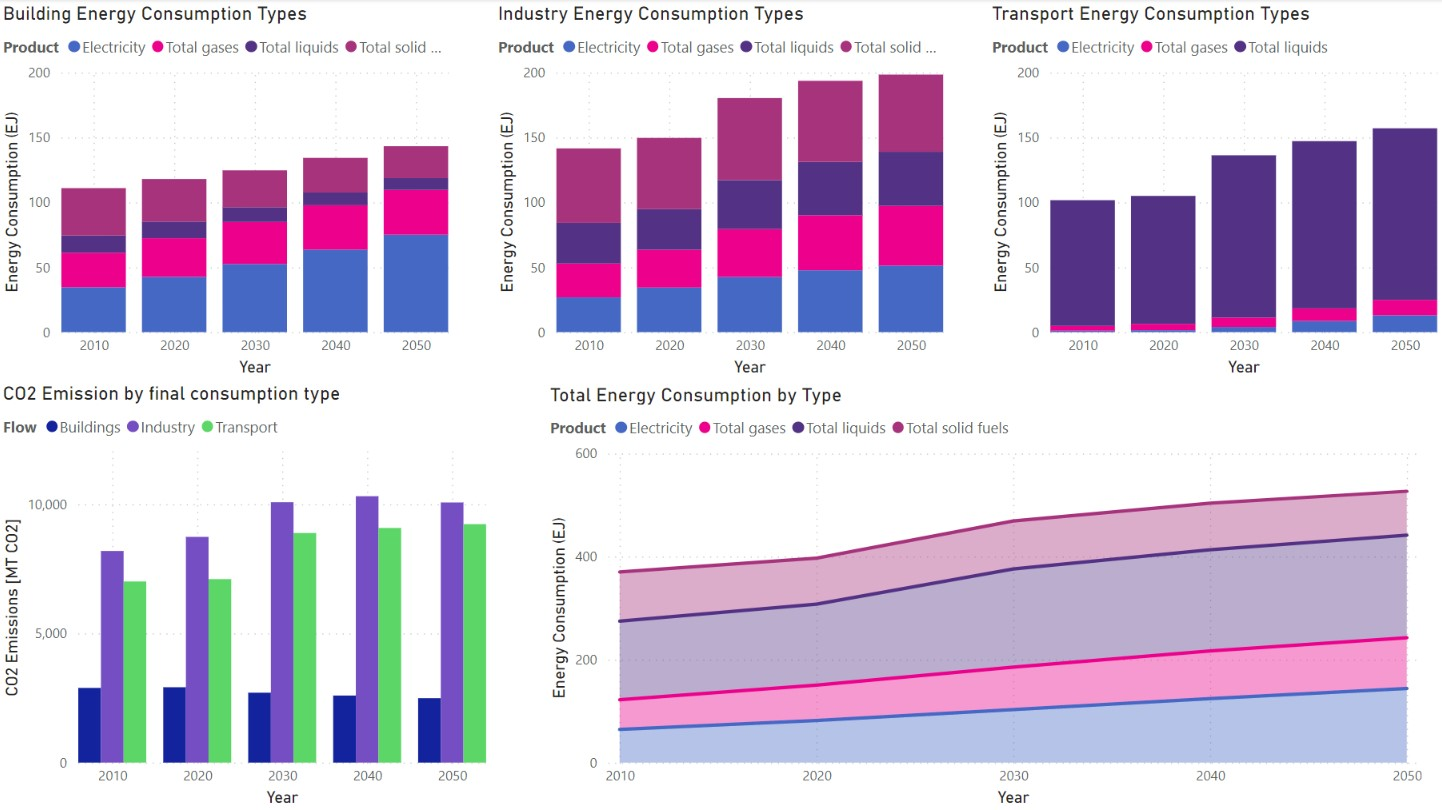

This screenshot's page, from the dashboard's own definition file:
{"tool":"powerbi","page":{"name":"Energy Consumption Data","canvas":[1280,720],"ordinal":1},"visuals":[{"type":"clusteredColumnChart","title":"CO2 Emission by final consumption type","fields":{"Category":["WEO2021_Free_Data_World.Year"],"Y":["Sum(WEO2021_Free_Data_World.Value)"],"Series":["WEO2021_Free_Data_World.Flow"]},"box":[0,338.9,437.8,381.1],"z":0},{"type":"columnChart","title":"Industry Energy Consumption Types","fields":{"Category":["WEO2021_Free_Data_World.Year"],"Y":["Sum(WEO2021_Free_Data_World.Value)"],"Series":["WEO2021_Free_Data_World.Product"]},"box":[438.4,2.7,403.8,336.5],"z":1000},{"type":"columnChart","title":"Building Energy Consumption Types","fields":{"Category":["WEO2021_Free_Data_World.Year"],"Y":["Sum(WEO2021_Free_Data_World.Value)"],"Series":["WEO2021_Free_Data_World.Product"]},"box":[0,2.7,403.8,336.5],"z":1001},{"type":"columnChart","title":"Transport Energy Consumption Types","fields":{"Category":["WEO2021_Free_Data_World.Year"],"Y":["Sum(WEO2021_Free_Data_World.Value)"],"Series":["WEO2021_Free_Data_World.Product"]},"box":[875.9,2.7,403.8,336.5],"z":1002},{"type":"stackedAreaChart","title":"Total Energy Consumption by Type","fields":{"Category":["WEO2021_Free_Data_World.Year"],"Y":["Sum(WEO2021_Free_Data_World.Value)"],"Series":["WEO2021_Free_Data_World.Product"]},"box":[484.8,340.1,781.5,379.9],"z":1003}]}

Visuals, with their boxes in screenshot pixels (x1, y1, x2, y2), scaled from the page's 1280x720 canvas onto the 1442x810 screenshot:
"CO2 Emission by final consumption type" clusteredColumnChart: <region>0, 381, 493, 809</region>
"Industry Energy Consumption Types" columnChart: <region>494, 3, 949, 382</region>
"Building Energy Consumption Types" columnChart: <region>0, 3, 455, 382</region>
"Transport Energy Consumption Types" columnChart: <region>987, 3, 1441, 382</region>
"Total Energy Consumption by Type" stackedAreaChart: <region>546, 383, 1427, 809</region>
